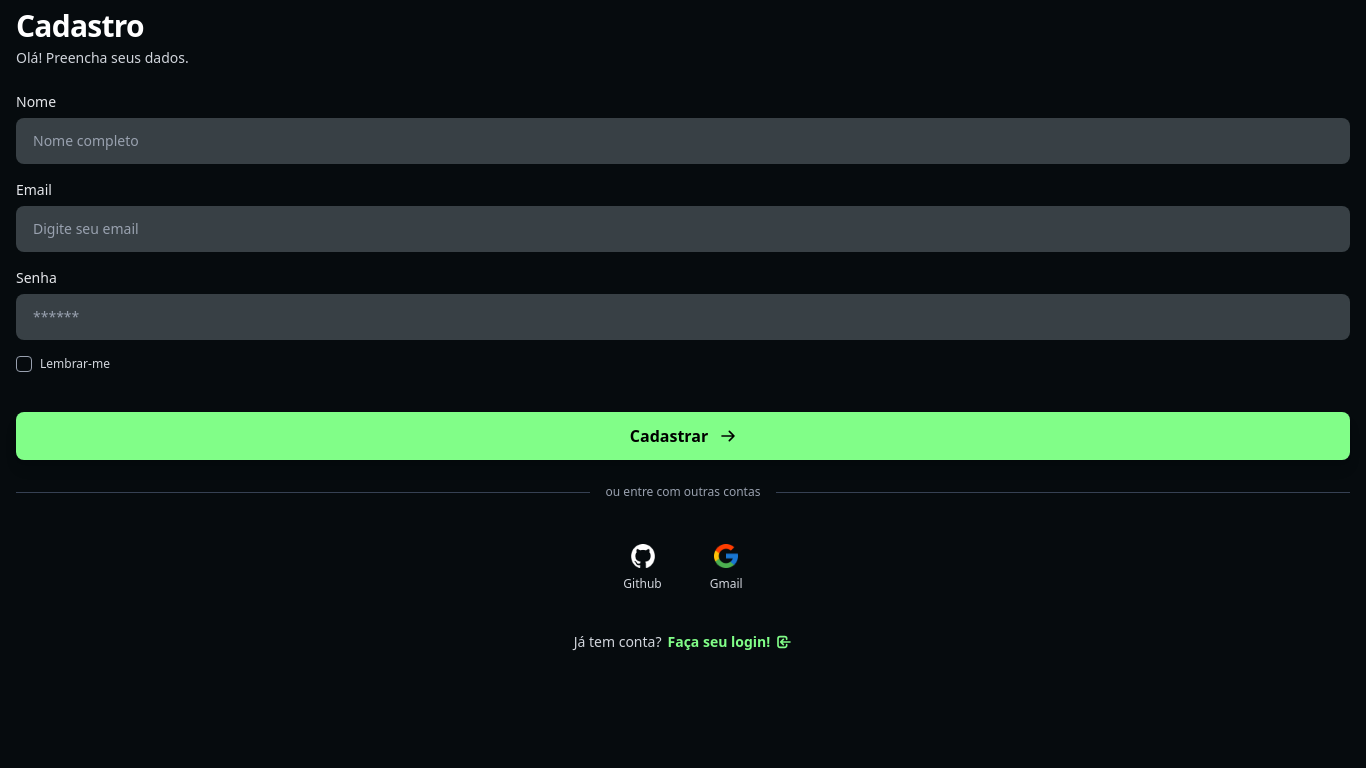
Scenario: RegisterForm Component › validates empty inputs on submission
The image size is (1366, 768).
Step 1. Click the button "Cadastrar" → (683, 436), box [16,412,1350,460]
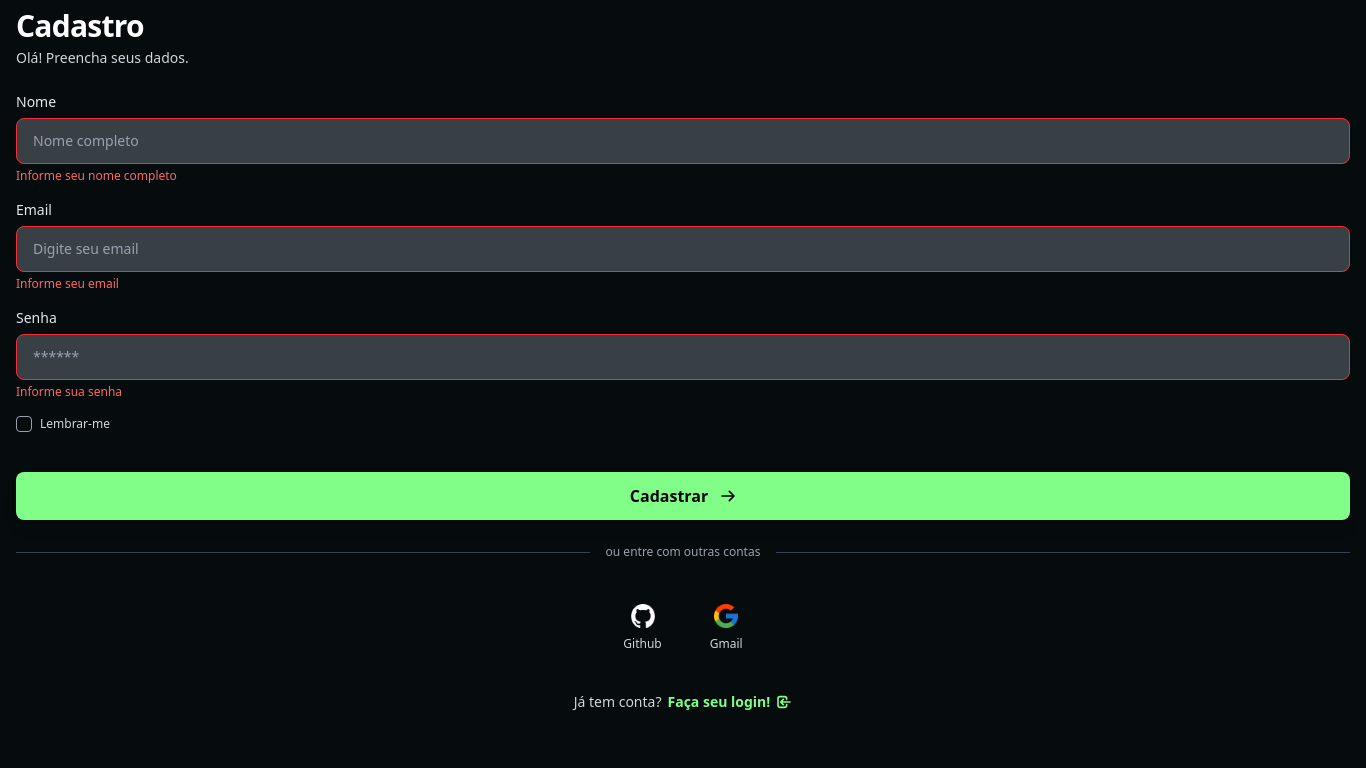
Expected: the text "Informe seu nome completo" is shown, [16,167,177,184]
Expected: the text "Informe seu email" is shown, [16,275,119,292]
Expected: the text "Informe sua senha" is shown, [16,383,122,400]
